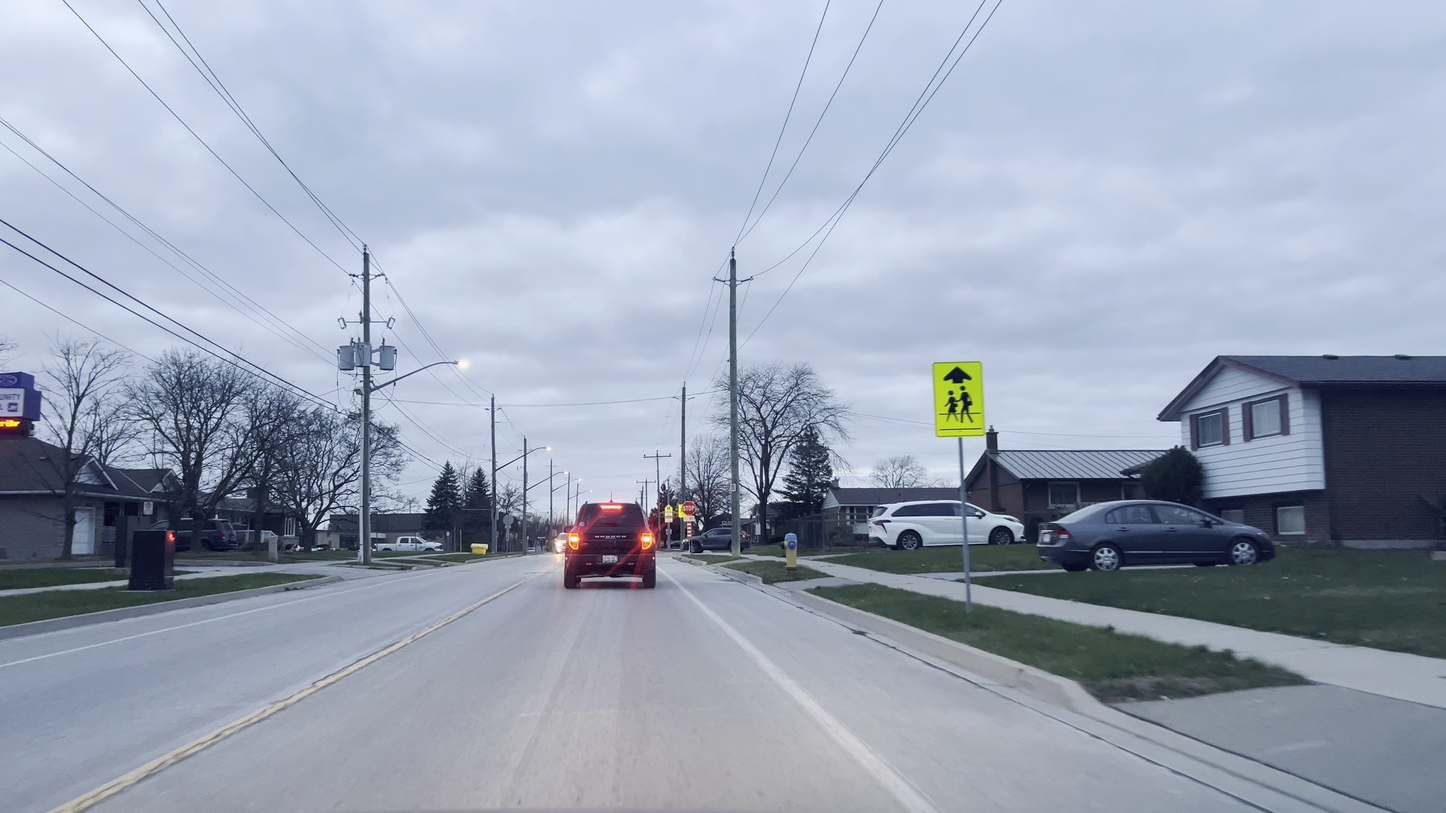cracks: (143, 700, 276, 777), (287, 635, 413, 692)
